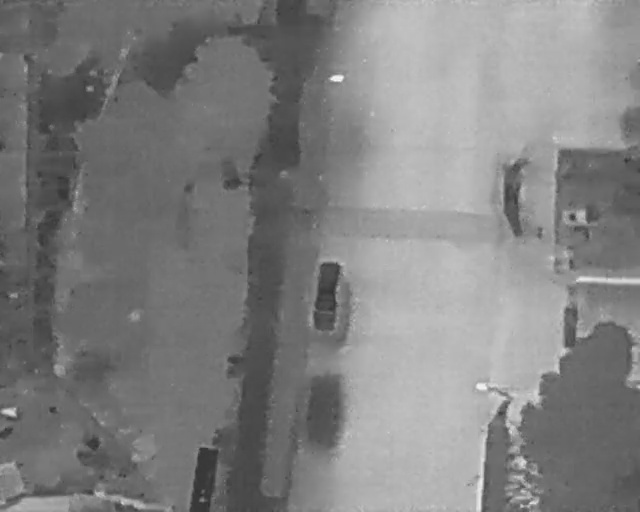Car: (308, 258, 345, 334)
